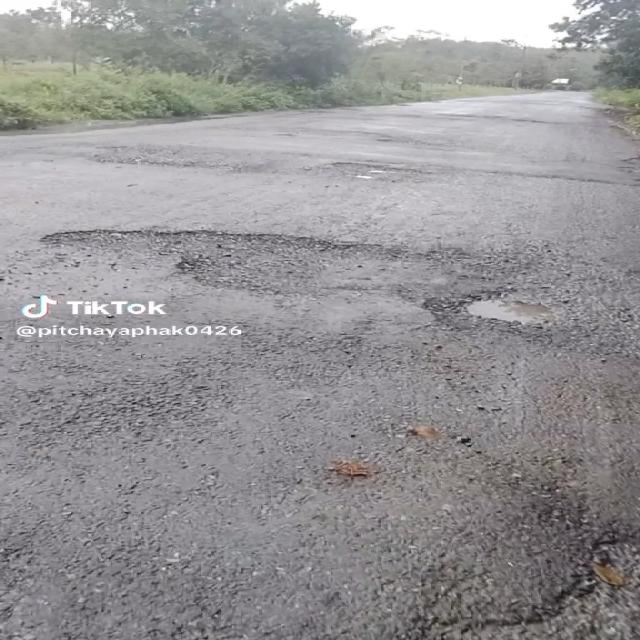Poth-hole: (95, 201, 413, 324)
